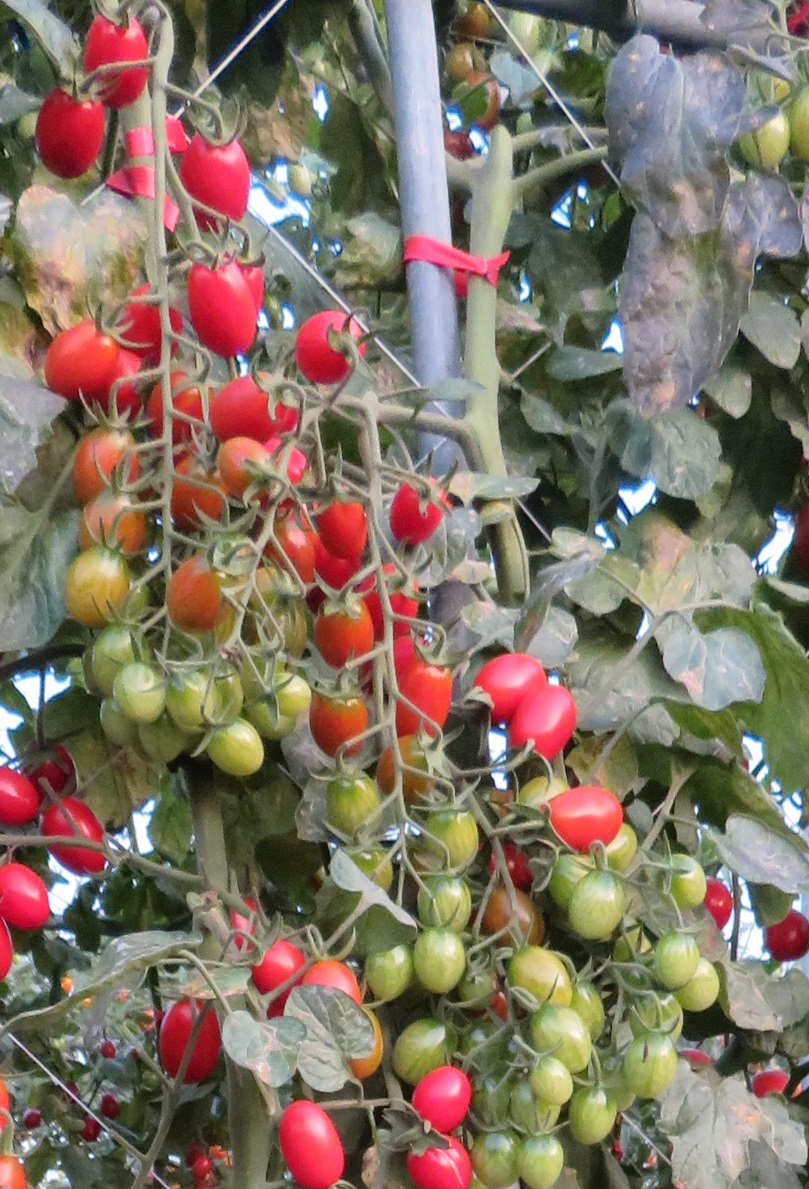green: (59, 545, 133, 620), (561, 872, 627, 941), (414, 923, 475, 993), (321, 783, 390, 841), (394, 1025, 454, 1086), (111, 657, 164, 726), (209, 720, 273, 777), (532, 1003, 585, 1071), (421, 810, 483, 867), (511, 946, 574, 1002), (506, 1140, 573, 1187), (162, 667, 211, 731), (745, 104, 790, 173), (652, 928, 701, 991), (620, 1047, 684, 1095), (570, 1091, 621, 1147), (369, 947, 412, 1013), (419, 876, 475, 926), (522, 1052, 580, 1100), (89, 624, 162, 658), (625, 997, 687, 1036), (273, 666, 312, 719), (478, 1140, 512, 1184)
orange: (173, 555, 227, 639), (77, 428, 147, 492), (316, 687, 375, 756), (82, 487, 151, 544), (219, 431, 283, 487), (320, 602, 373, 668)
red: (272, 1103, 361, 1189), (32, 82, 111, 178), (183, 256, 254, 355), (180, 135, 252, 229), (507, 686, 593, 760), (43, 324, 122, 399), (287, 309, 366, 381), (161, 997, 220, 1088), (536, 791, 621, 852), (42, 797, 107, 873), (1, 858, 66, 931), (406, 1128, 482, 1189), (473, 656, 549, 715), (314, 491, 375, 560), (412, 1066, 475, 1130), (393, 474, 448, 546), (399, 666, 454, 735), (209, 389, 288, 434), (761, 913, 809, 970), (1, 765, 38, 828)
